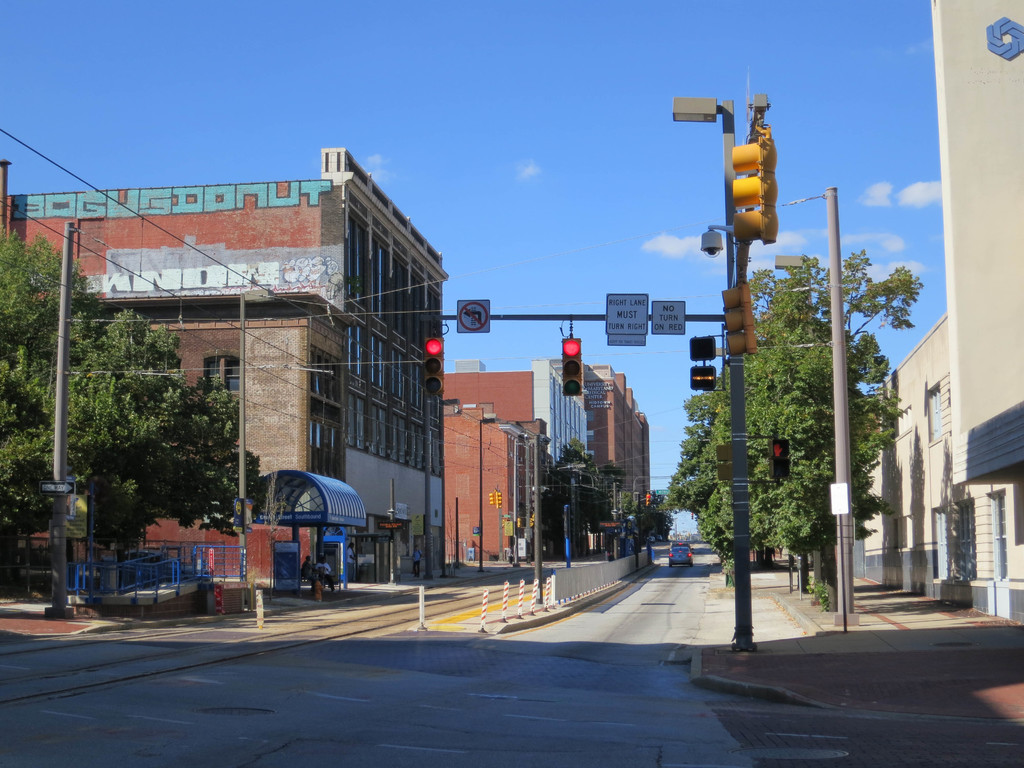red_light: (423, 336, 443, 395), (563, 337, 580, 395)
